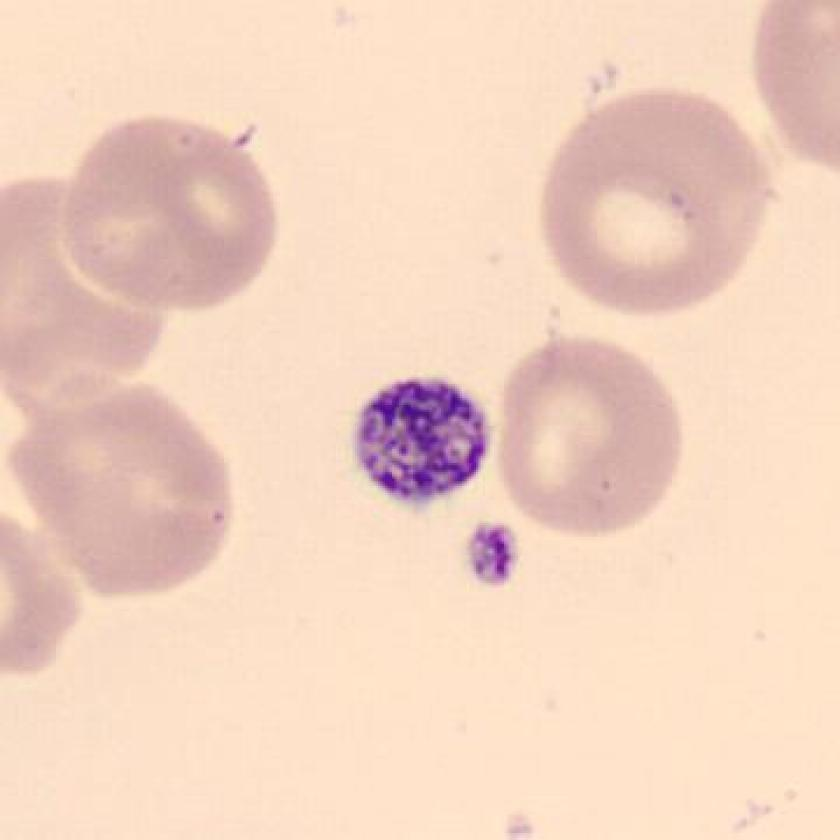platelets: (337, 367, 503, 519)
